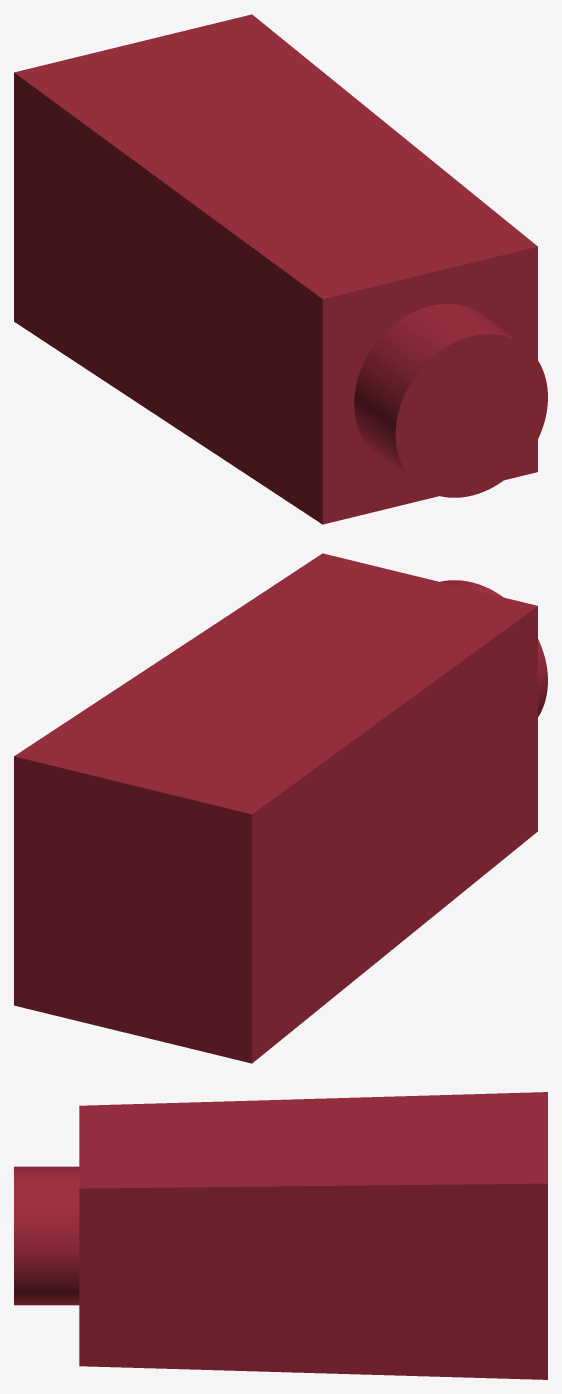
3 renders of one model, top to bottom at view 1: azimuth 30°, elevation 25°; view 2: azimuth 150°, elevation 25°; view 3: azimuth 270°, elevation 25°, orthographic. The views are drawn at different scales.
Parts seen in each view (by area): view 1: node; view 2: node; view 3: node.
Part boxes in pixels (left/top/right/bottom): node: left=14, top=14, right=547, bottom=524; node: left=14, top=553, right=547, bottom=1063; node: left=14, top=1092, right=547, bottom=1379.
Bounding box in the file's own units: 0.0694 × 0.0694 × 0.1709.
